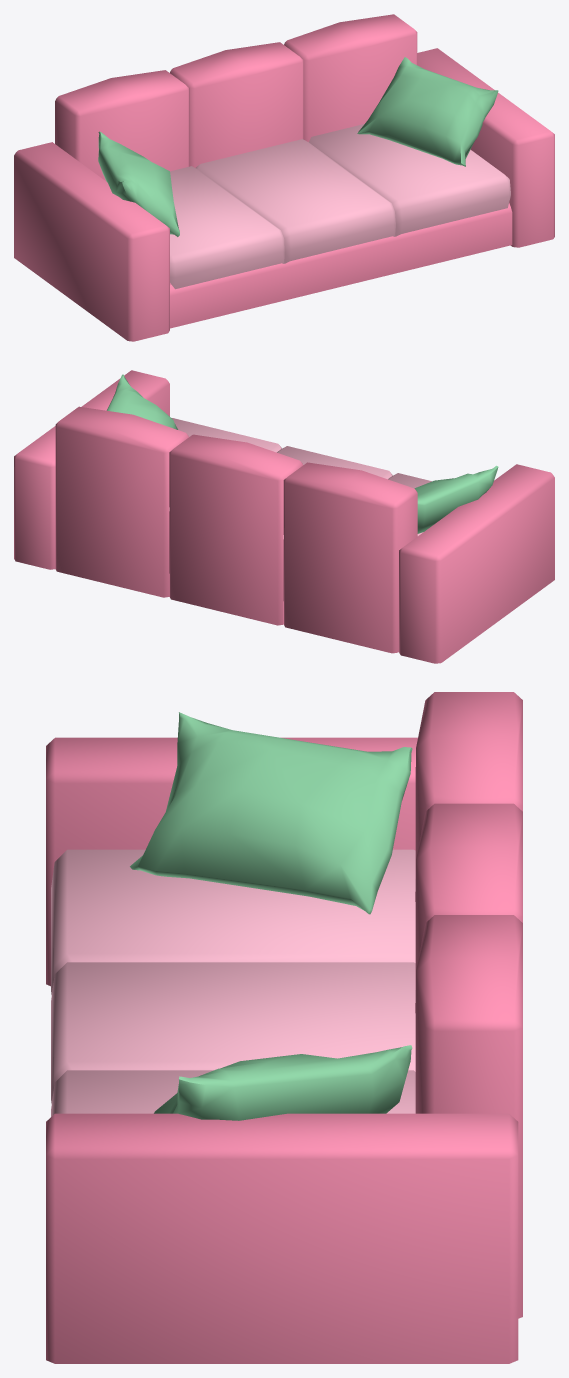
File: sofa_027.glb
The picture shows the model from 3 angles, top to bottom: view 1: azimuth 30°, elevation 25°; view 2: azimuth 150°, elevation 25°; view 3: azimuth 270°, elevation 25°; orthographic projection. The views are drawn at different scales.
Visible parts, largest first — view 1: sofa_027; view 2: sofa_027; view 3: sofa_027.
Boxes of the visible parts, bbox=[...] form: sofa_027: bbox=[14, 14, 554, 341]; sofa_027: bbox=[14, 370, 554, 663]; sofa_027: bbox=[46, 692, 522, 1363].
Bounding box in the file's own units: 2.21 × 0.7624 × 1.07.
1 material, 1 textured.
